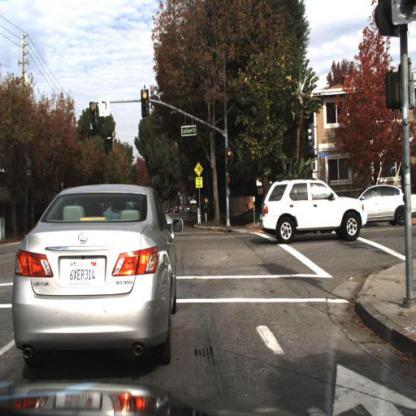car: (11, 185, 181, 364), (260, 177, 368, 247), (341, 185, 411, 229)
trafficLight-Red: (142, 88, 151, 124), (225, 149, 234, 176)
trafficLight-RedLeft: (89, 102, 100, 136)
